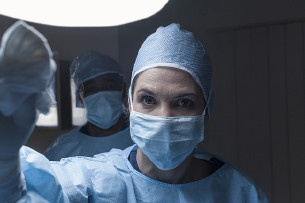Mask: (130, 86, 209, 165)
